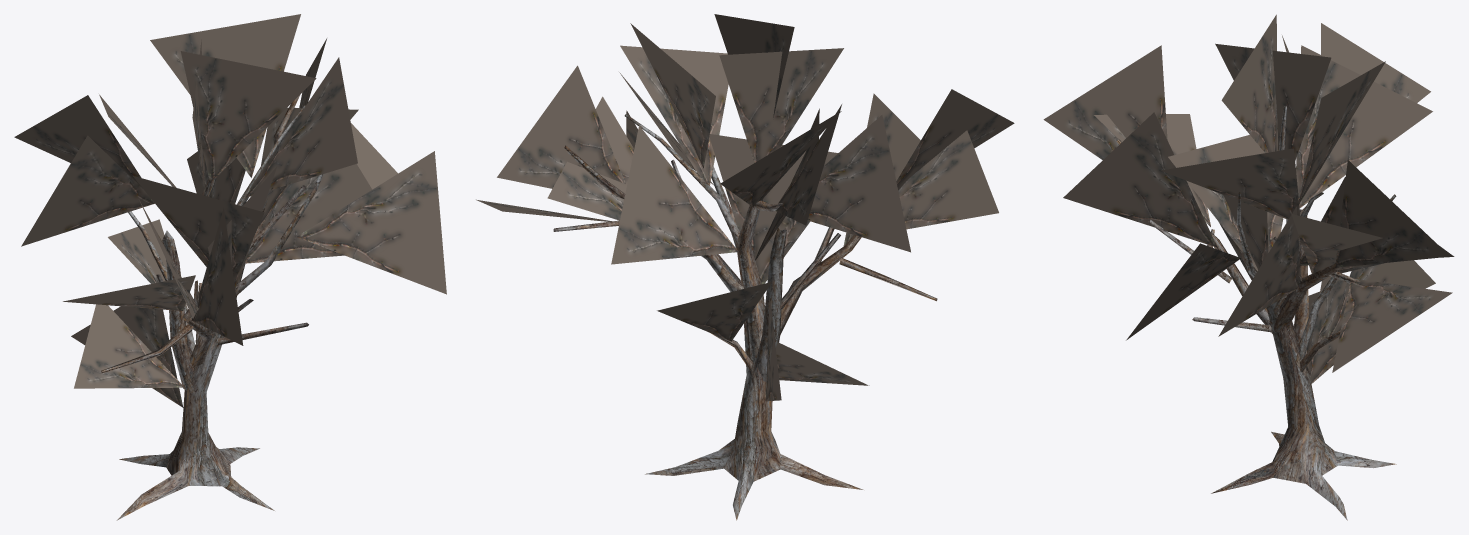
The model's file is Deadtree1_LOD2.fbx.
3 views of the same model, side by side, from view 1: azimuth 30°, elevation 25°; view 2: azimuth 150°, elevation 25°; view 3: azimuth 270°, elevation 25° (orthographic).
Parts seen in each view (by area): view 1: polySurface92; view 2: polySurface92; view 3: polySurface92.
Part boxes in pixels (box(x1,y1,x2,y2)): polySurface92: box(14, 14, 446, 520); polySurface92: box(476, 14, 1014, 520); polySurface92: box(1043, 14, 1454, 520).
Size of the model in its own units: 6.73 by 6.79 by 5.61.
